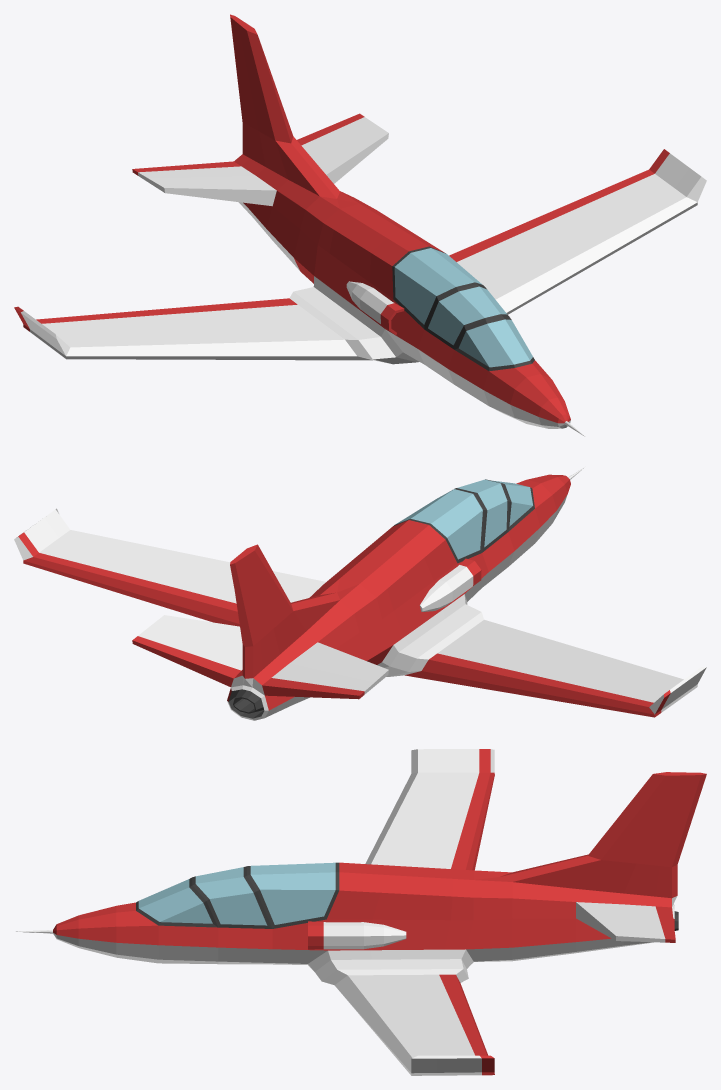
File: jet.obj
3 views of the same model, one above another, from view 1: azimuth 30°, elevation 25°; view 2: azimuth 150°, elevation 25°; view 3: azimuth 270°, elevation 25° (orthographic). The views are drawn at different scales.
Visible parts, largest first — view 1: jet; view 2: jet; view 3: jet.
Boxes of the visible parts, left/top/right/bottom form: jet: left=14, top=14, right=706, bottom=436; jet: left=14, top=466, right=706, bottom=720; jet: left=16, top=749, right=706, bottom=1075.
Size of the model in its own units: 11.82 by 3.42 by 11.22.
1 material, 1 textured.
